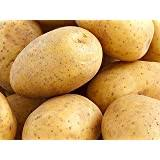potato: (10, 25, 102, 96)
